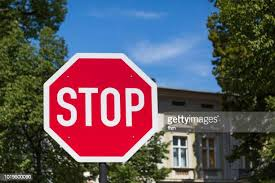SS: (44, 52, 156, 163)
